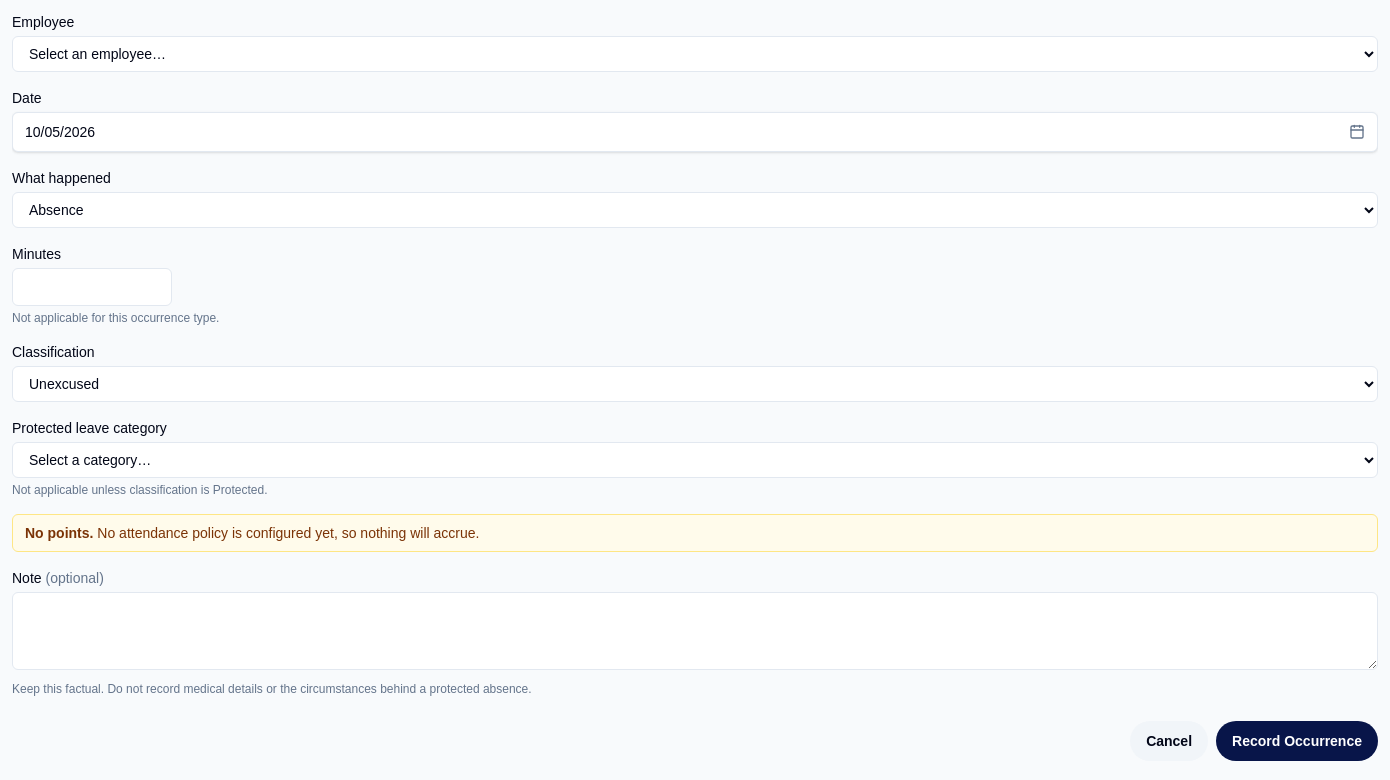
Test: MhdOccurrenceForm › shows field messages for an empty submit instead of failing silently
This screenshot has width=1390, height=780.
Click the button "Record occurrence" at (1297, 741), box [1216,721,1378,761]
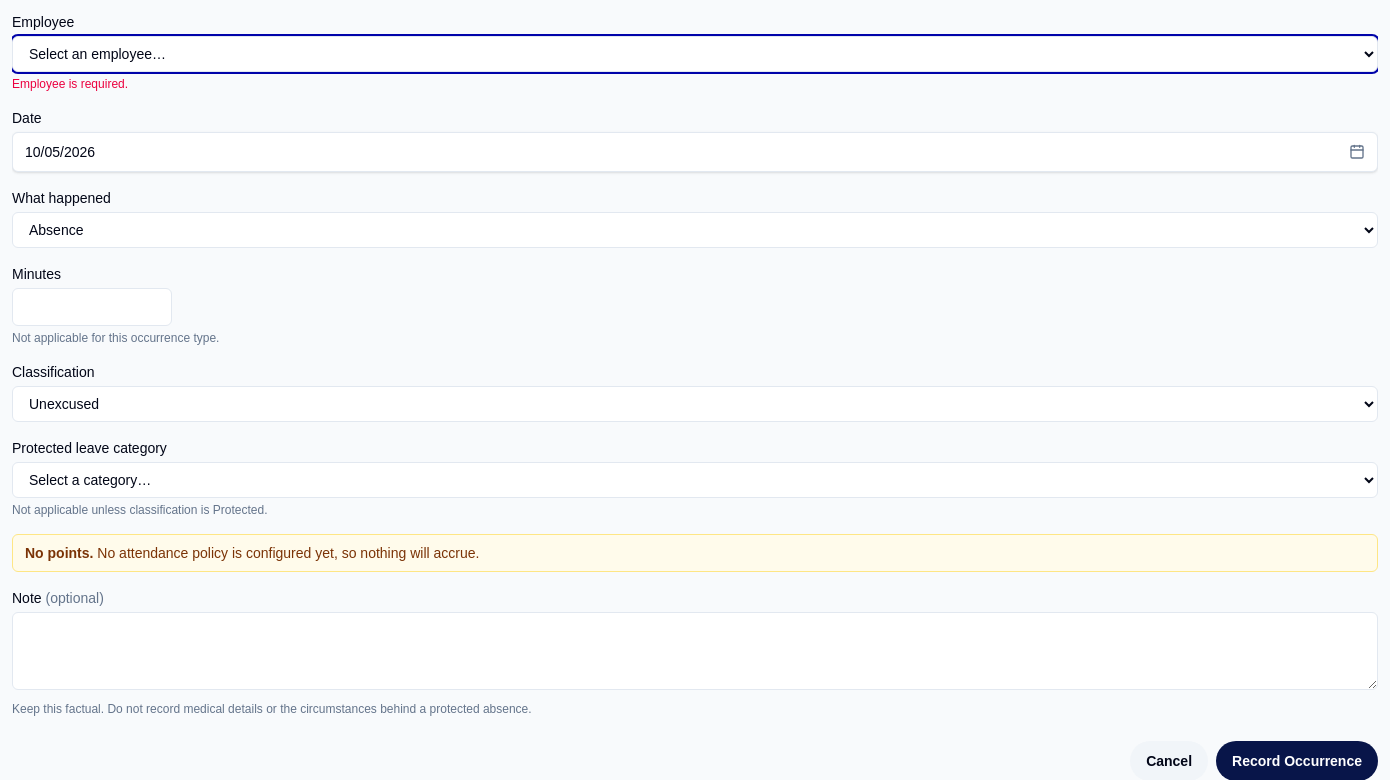
Expected: the text "Employee is required." is shown, [12,77,128,91]
